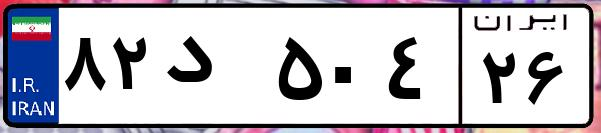0: (330, 28, 385, 110)
2: (475, 38, 525, 113), (110, 28, 158, 98)
4: (385, 28, 445, 110)
5: (270, 28, 330, 110)
6: (525, 38, 570, 115)
8: (57, 26, 110, 100)
د: (158, 20, 270, 120)
